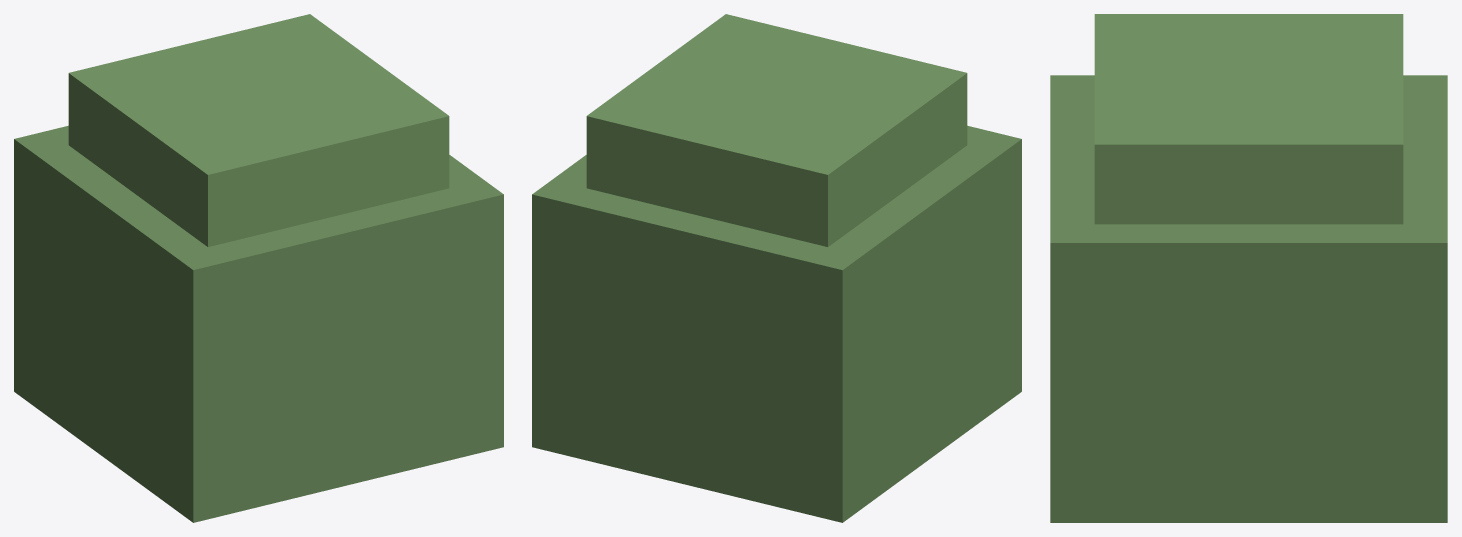
The model's file is mora_01.glb.
3 views of the same model, side by side, from view 1: azimuth 30°, elevation 25°; view 2: azimuth 150°, elevation 25°; view 3: azimuth 270°, elevation 25° (orthographic). The views are drawn at different scales.
Visible parts, largest first — view 1: mora_01; view 2: mora_01; view 3: mora_01.
Boxes of the visible parts, <box> form: mora_01: <box>14,14,503,522</box>; mora_01: <box>532,14,1021,522</box>; mora_01: <box>1050,14,1447,522</box>.
Size of the model in its own units: 0.9 by 0.9 by 0.9.
